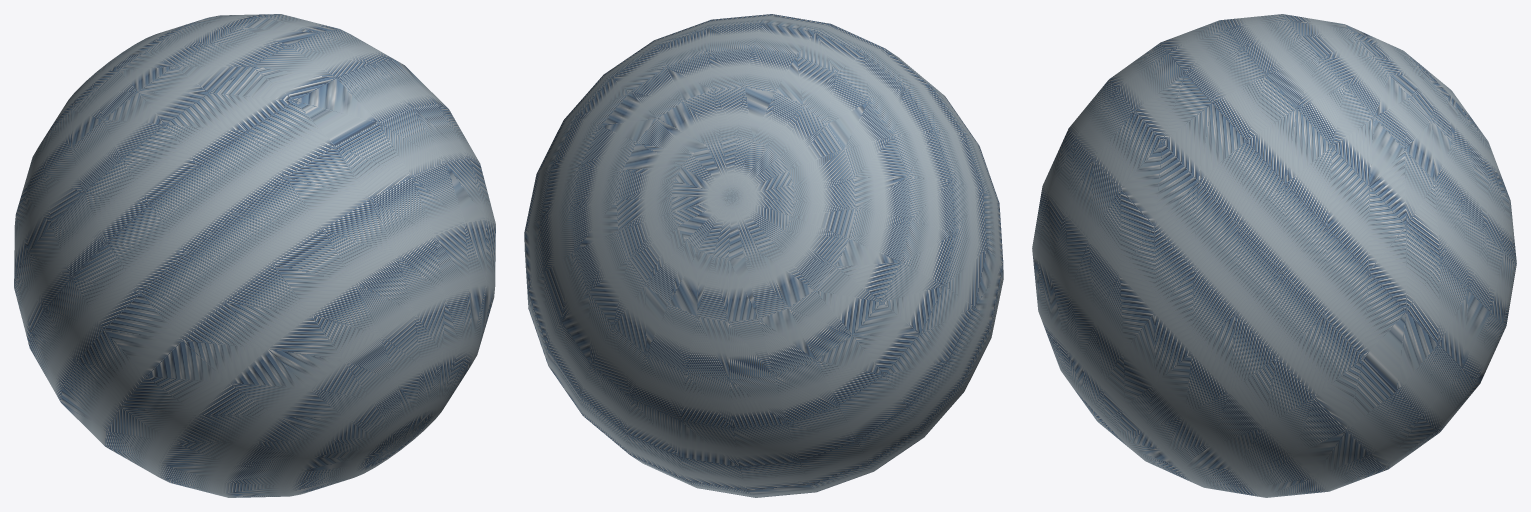
The picture shows the model from 3 angles, left to right: view 1: azimuth 30°, elevation 25°; view 2: azimuth 150°, elevation 25°; view 3: azimuth 270°, elevation 25°; orthographic projection.
Visible parts, largest first — view 1: Sphere; view 2: Sphere; view 3: Sphere.
Boxes of the visible parts, x1,y1,x2,y2 form: Sphere: (14, 14, 495, 497); Sphere: (524, 14, 1003, 497); Sphere: (1032, 14, 1516, 497).
Bounding box in the file's own units: 200 × 199 × 200.
1 material, 1 textured.
